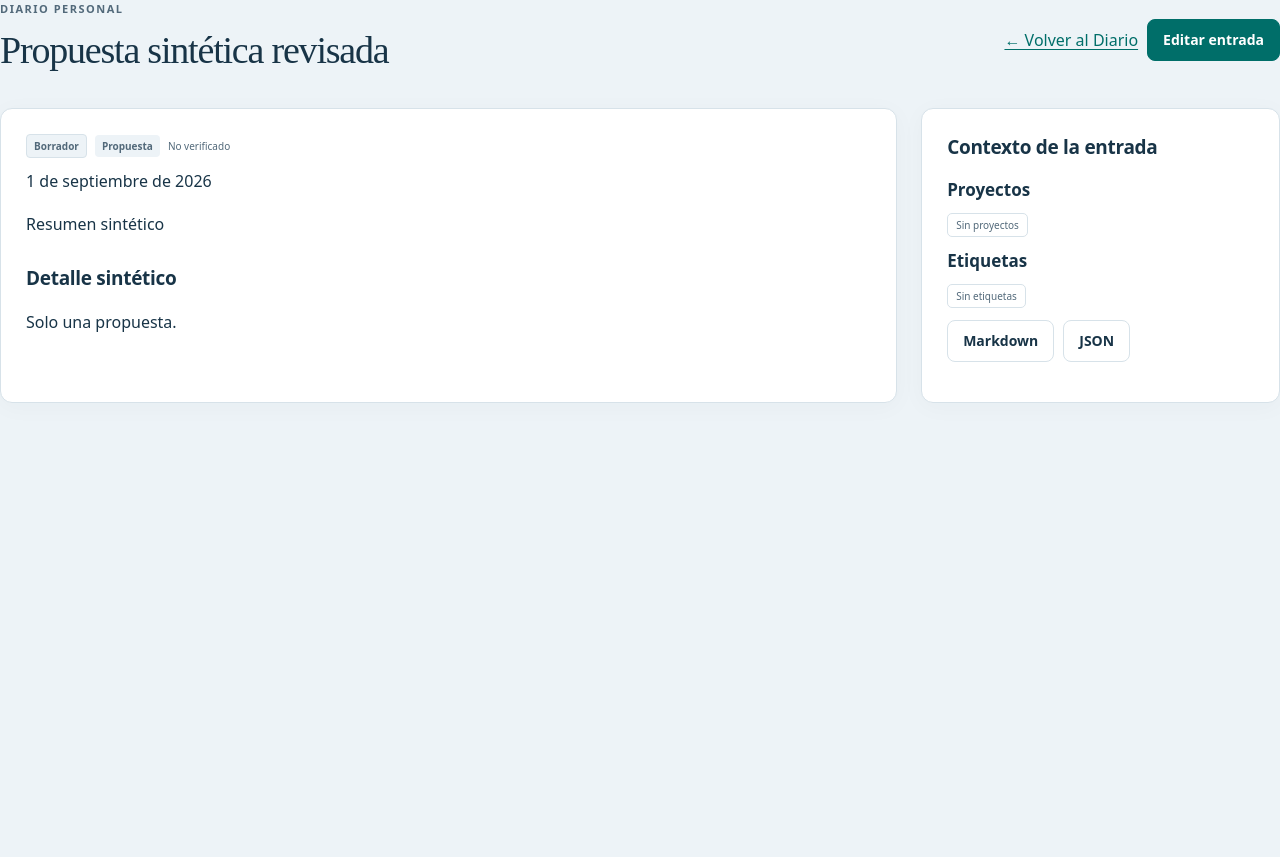
lectura y edición del Diario › edita explícitamente, cancela sin guardar y vuelve a lectura tras guardar
Check: the heading "Propuesta sintética revisada" is shown, box [0,28,388,72]
Click the button "Editar entrada" at [1214, 40], box [1147,19,1279,61]
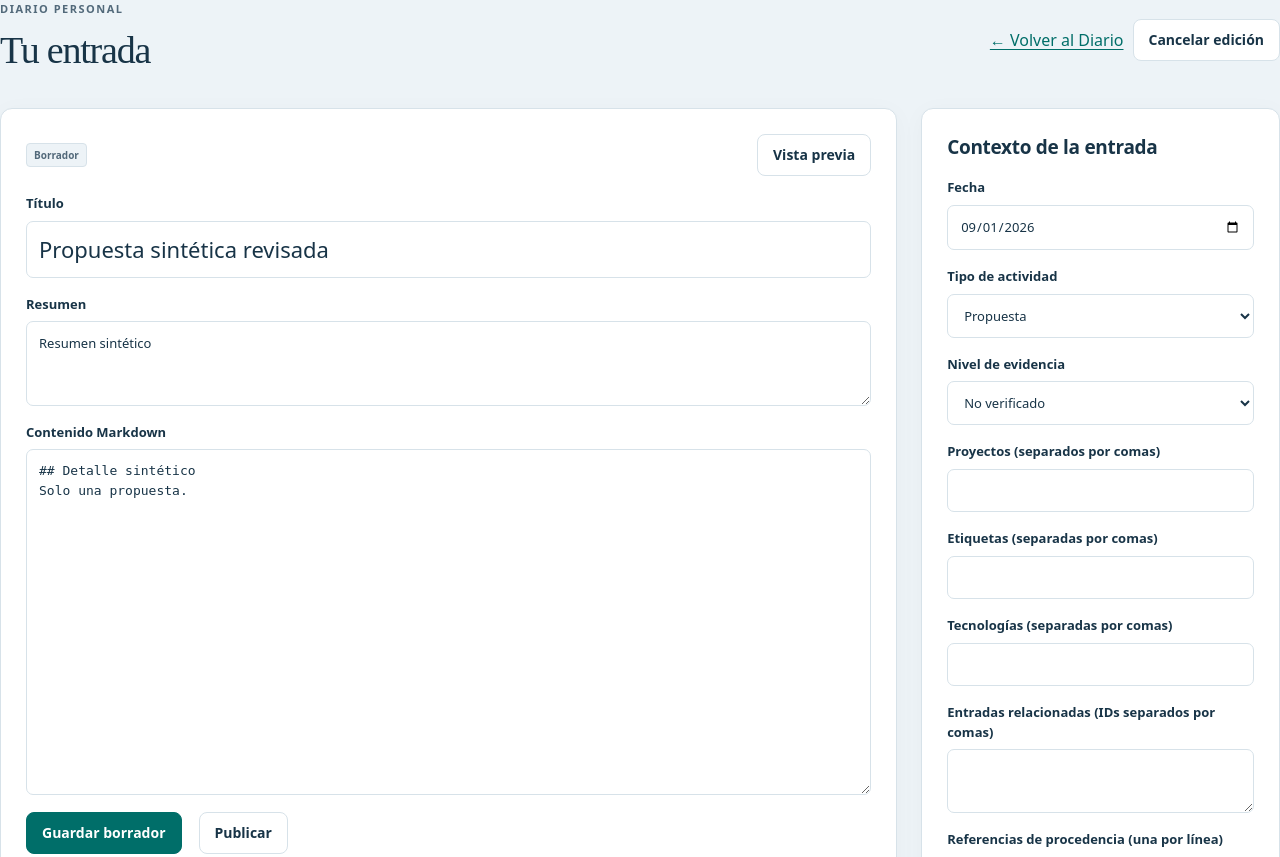
Replace the text in the field labelled "Título" with "Cambio descartado" at [449, 249], box [26,221,871,278]
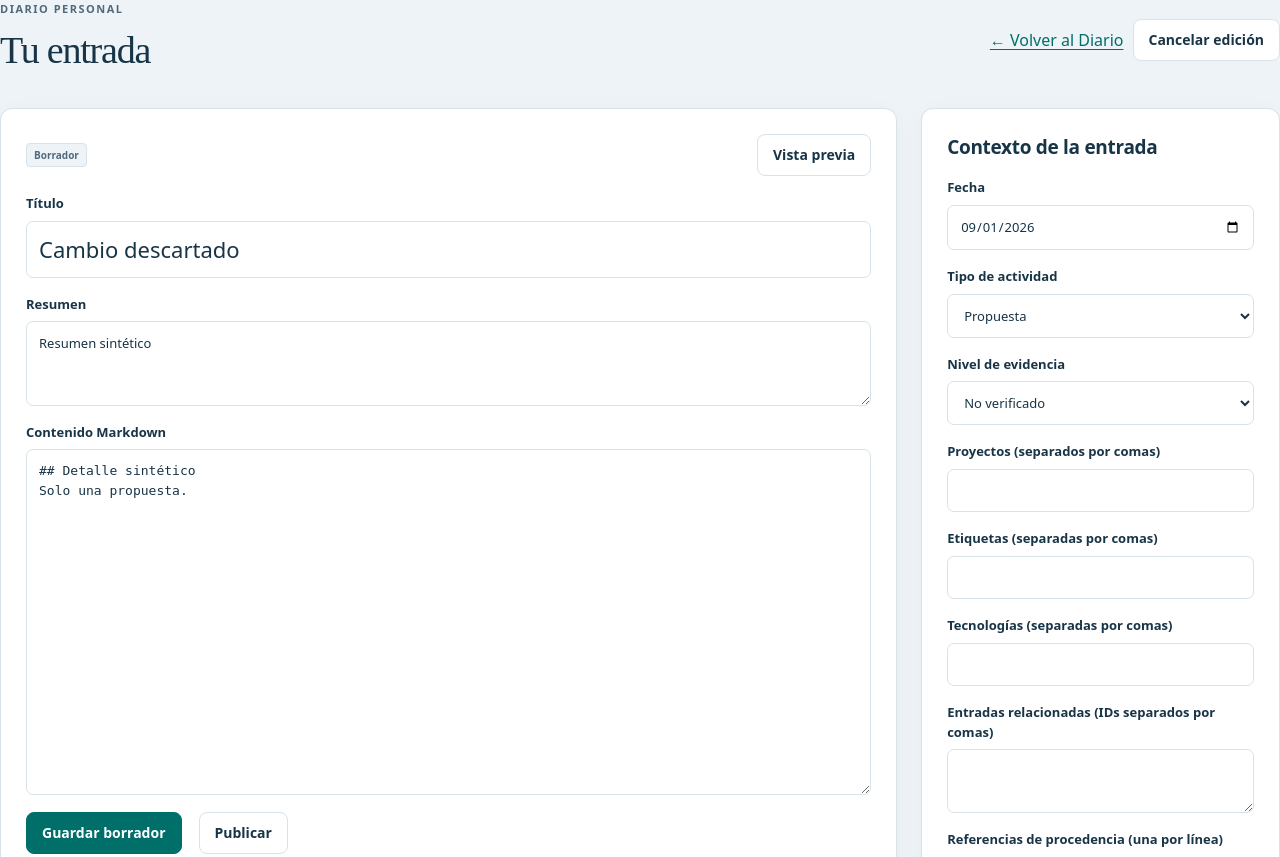
Click the button "Cancelar edición" at [1206, 40], box [1132,19,1279,61]
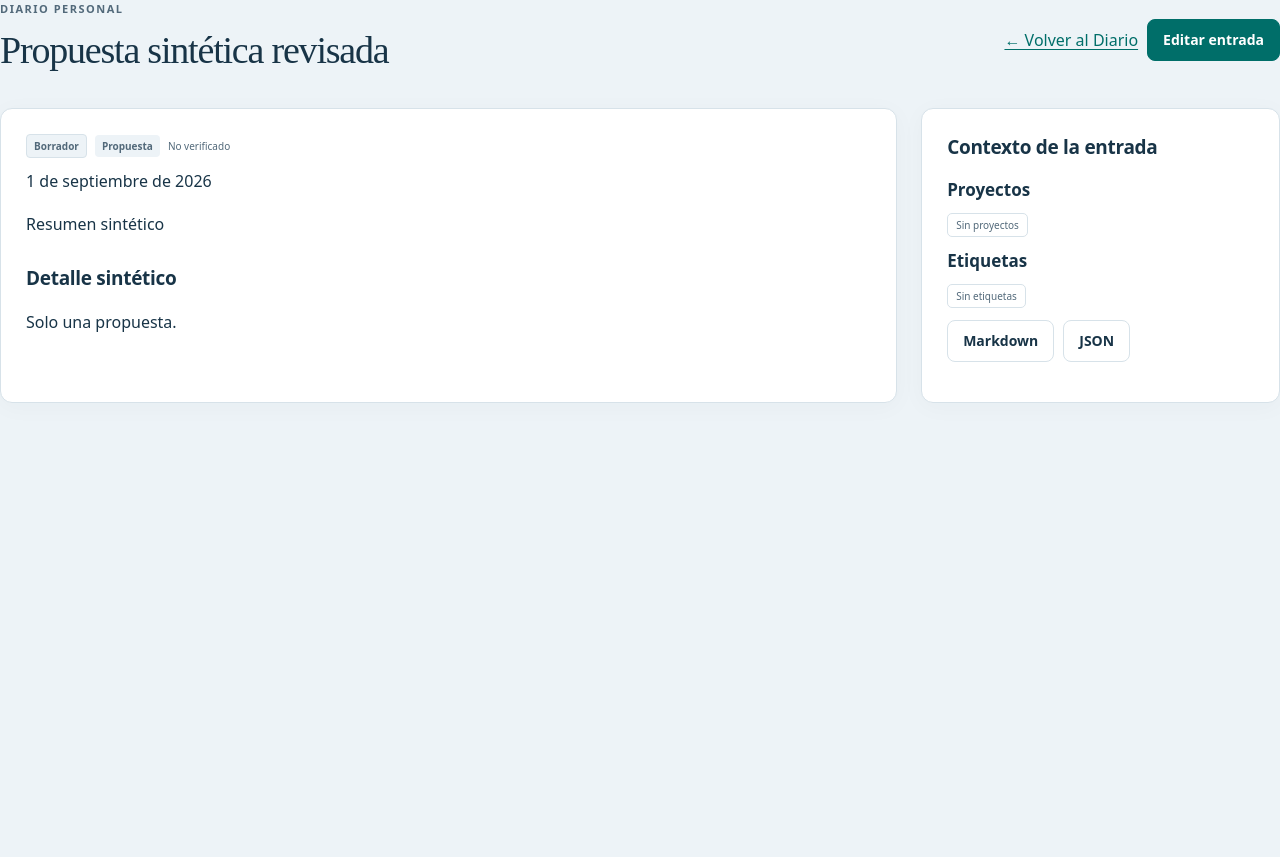
Check: the heading "Propuesta sintética revisada" is shown, box [0,28,388,72]
Click the button "Editar entrada" at [1214, 40], box [1147,19,1279,61]
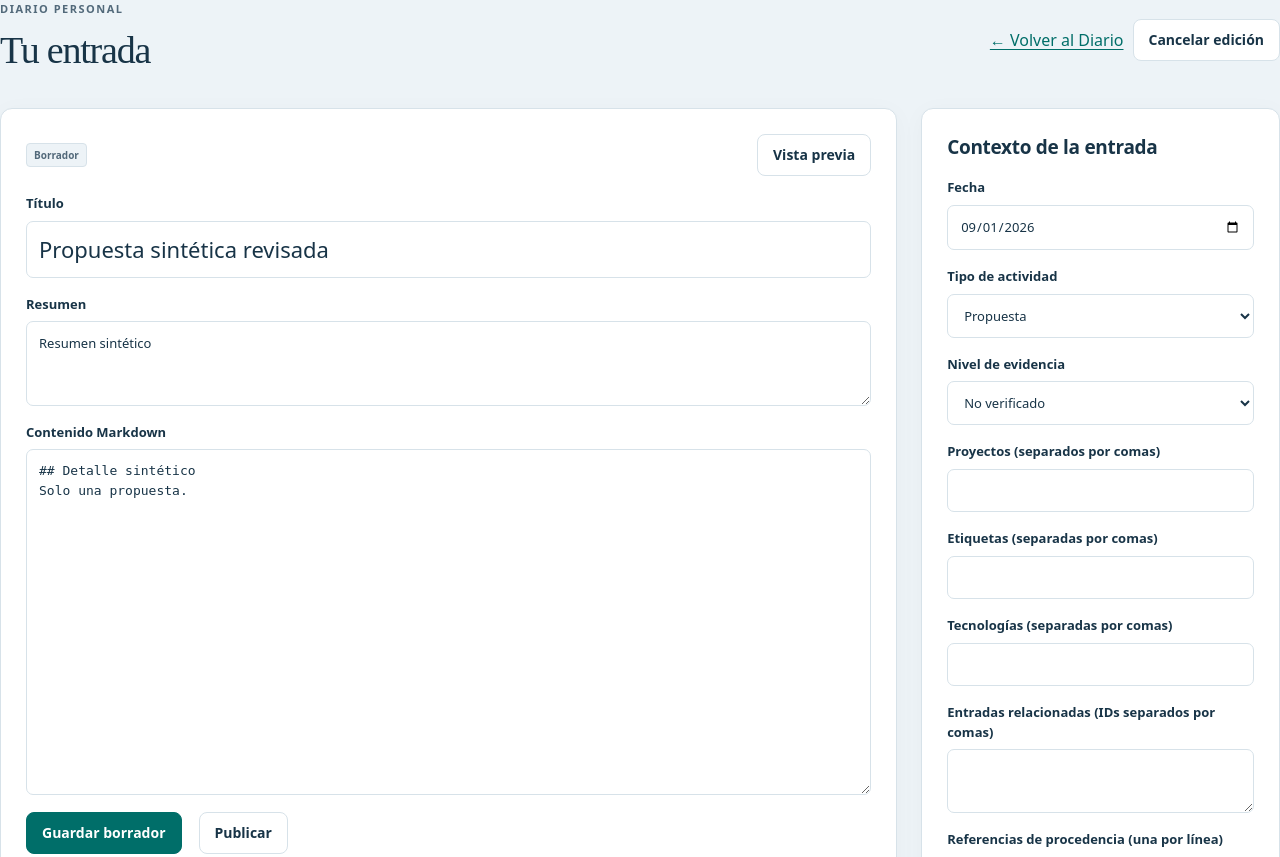
Check: the field labelled "Título" holds "Propuesta sintética revisada"
Replace the text in the field labelled "Título" with "Cambio guardado" at [449, 249], box [26,221,871,278]
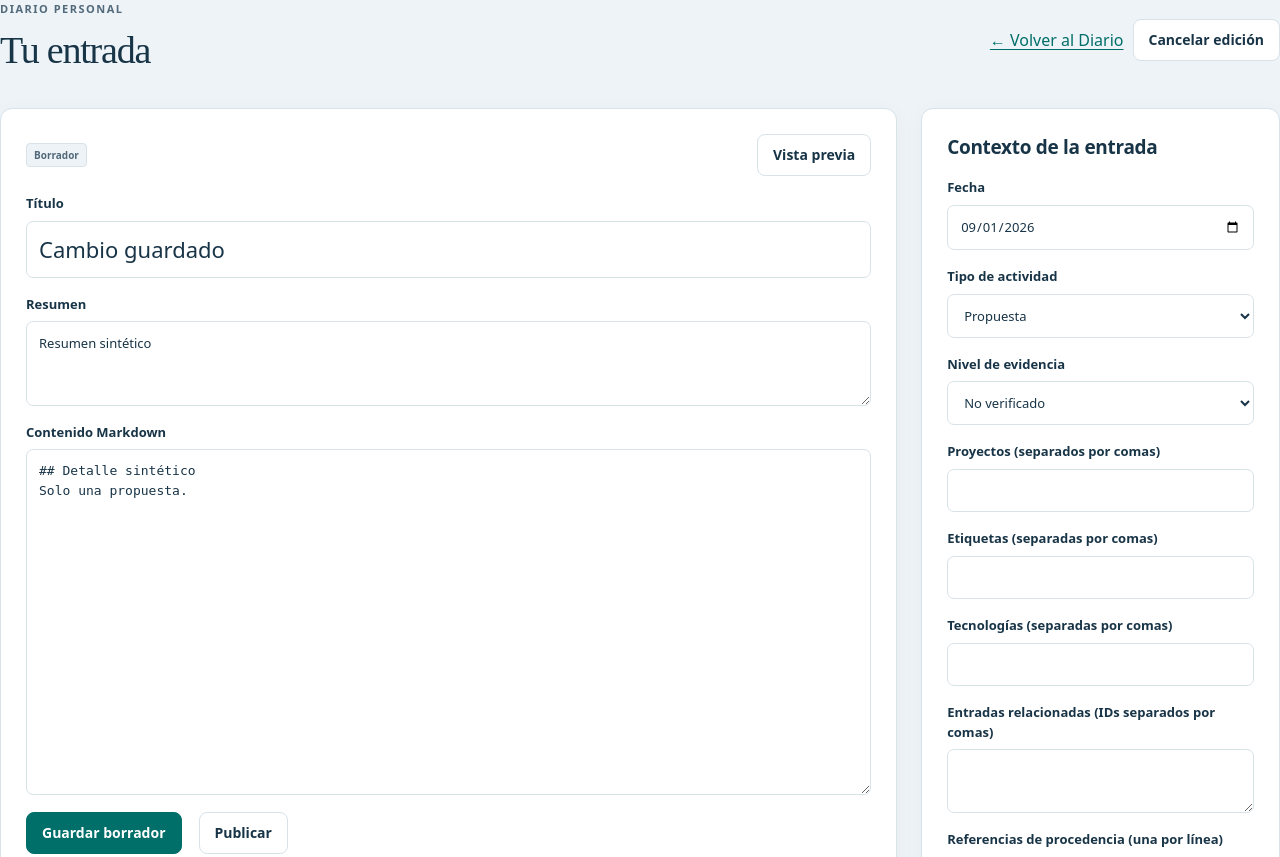
Click the button "Guardar borrador" at [104, 833], box [26,812,182,854]
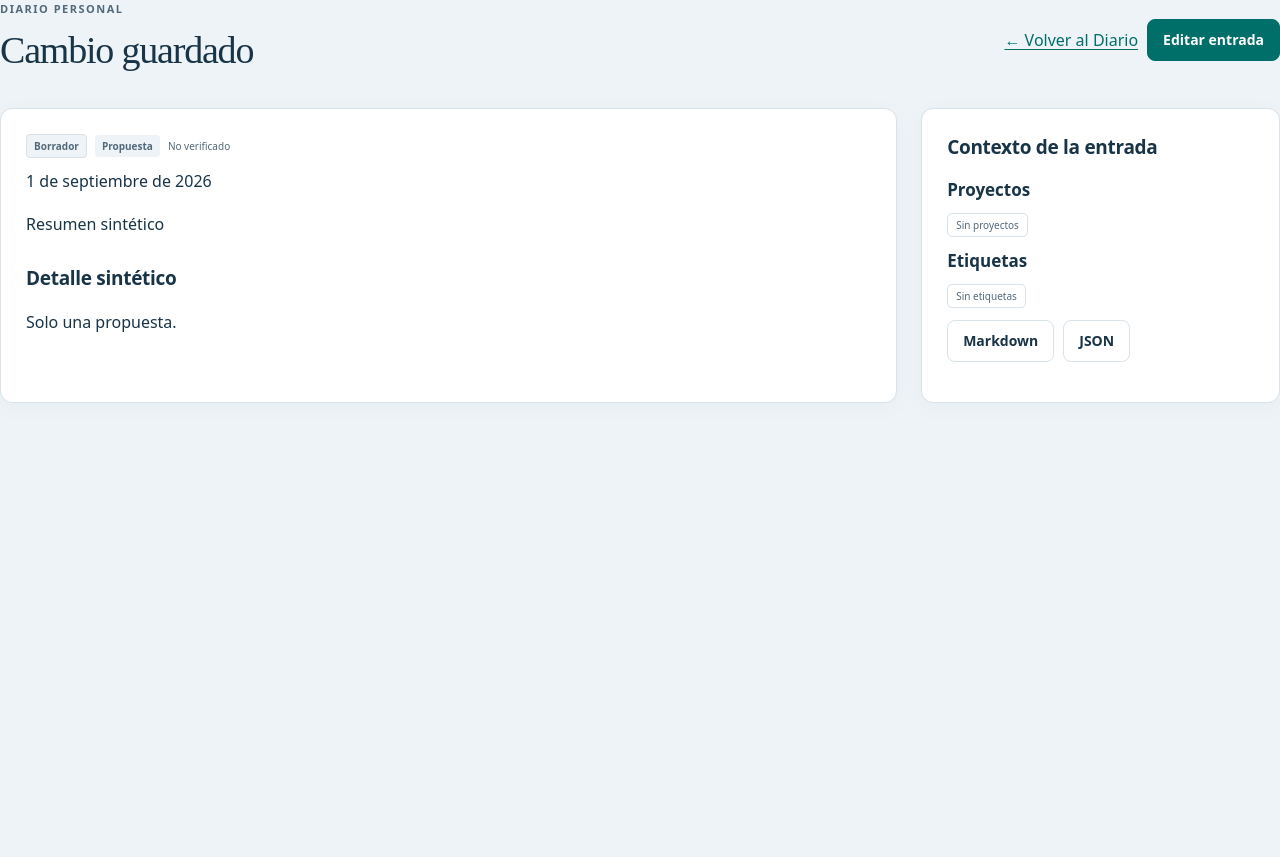
Check: the heading "Cambio guardado" is shown, box [0,28,253,72]
Check: the label labelled "Título" is gone
